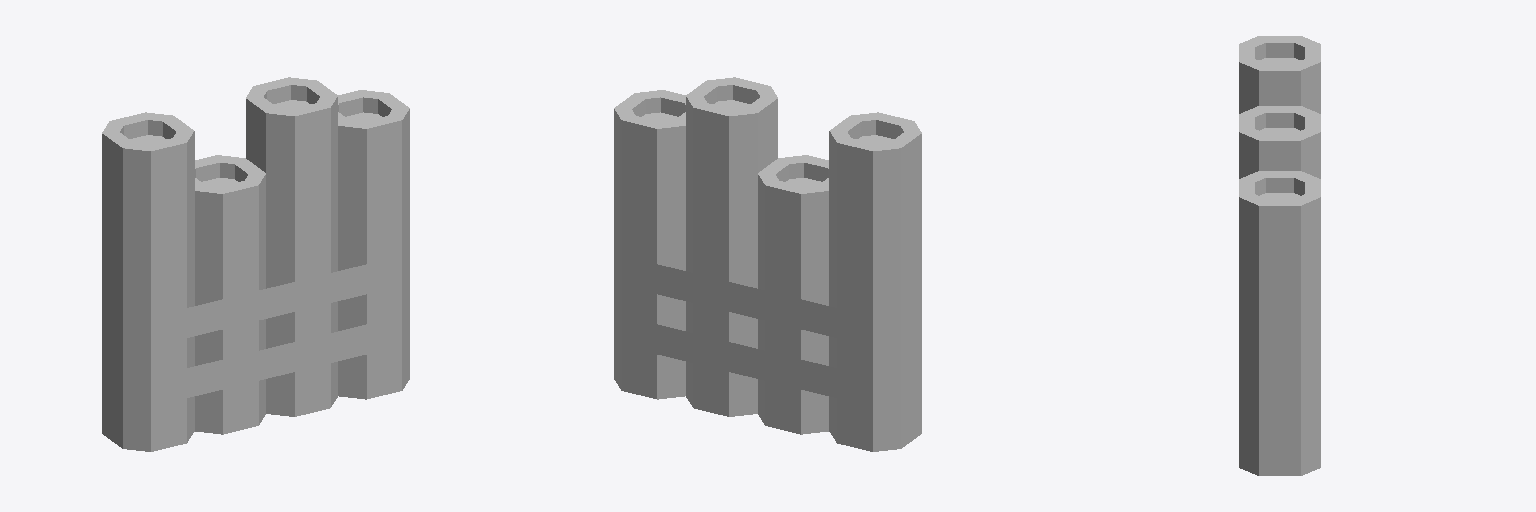
Rendered from poles.obj.
The picture shows the model from 3 angles: view 1: azimuth 30°, elevation 25°; view 2: azimuth 150°, elevation 25°; view 3: azimuth 270°, elevation 25°; orthographic projection.
Visible parts, largest first — view 1: poles; view 2: poles; view 3: poles.
Part boxes in pixels (x1,y1,x2,y2): poles: (102,77,409,451); poles: (614,77,921,451); poles: (1239,36,1320,475).
Bounding box in the file's own units: 1 × 1 × 0.25.